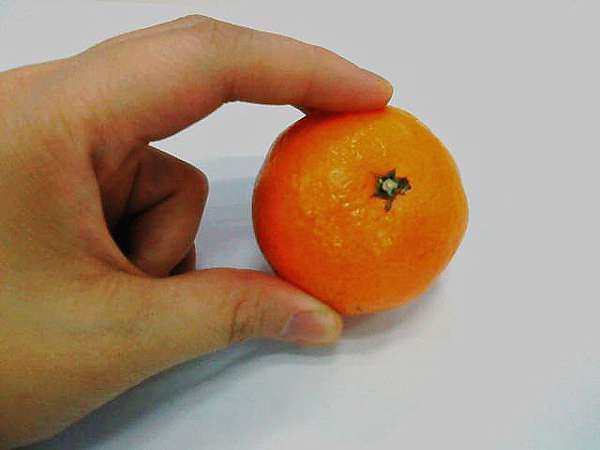orange: (248, 91, 481, 330)
